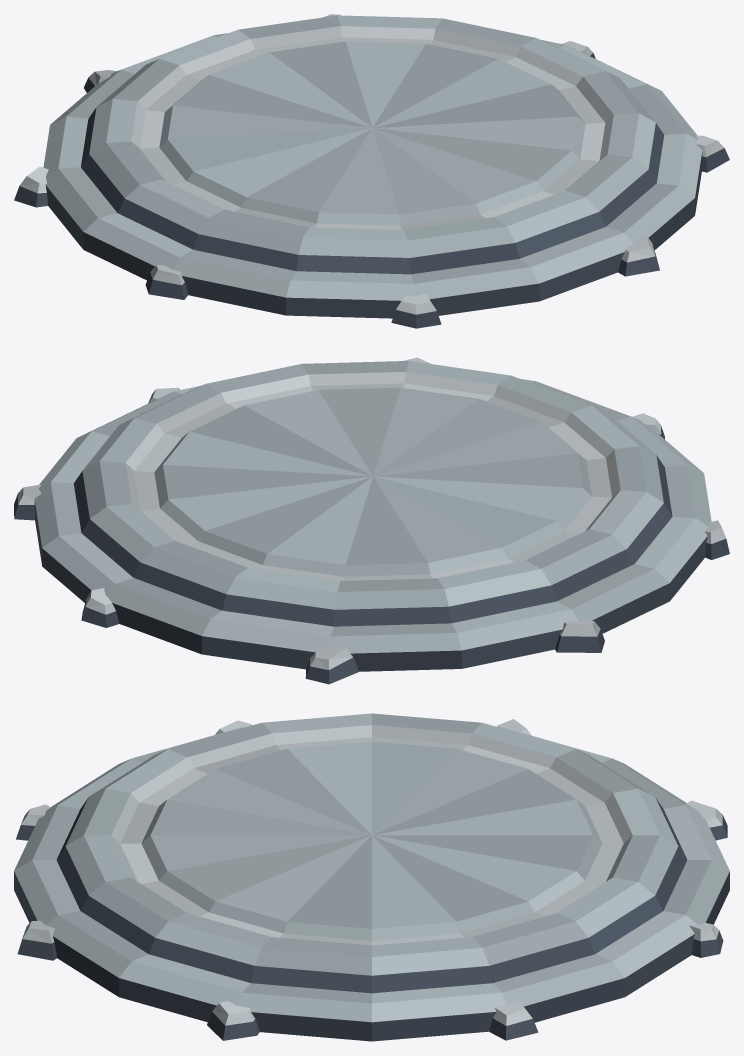
The picture shows the model from 3 angles, top to bottom: view 1: azimuth 30°, elevation 25°; view 2: azimuth 150°, elevation 25°; view 3: azimuth 270°, elevation 25°; orthographic projection. The views are drawn at different scales.
Visible parts, largest first — view 1: glacier-station; view 2: glacier-station; view 3: glacier-station.
Boxes of the visible parts, x1,y1,x2,y2 form: glacier-station: [14, 14, 729, 328]; glacier-station: [14, 357, 729, 684]; glacier-station: [14, 713, 729, 1041].
Bounding box in the file's own units: 2.37 × 0.2 × 2.36.
